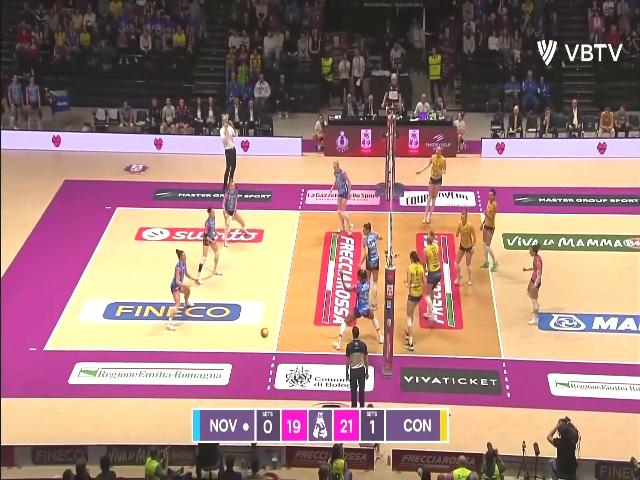volleyball court: (42, 205, 638, 361)
